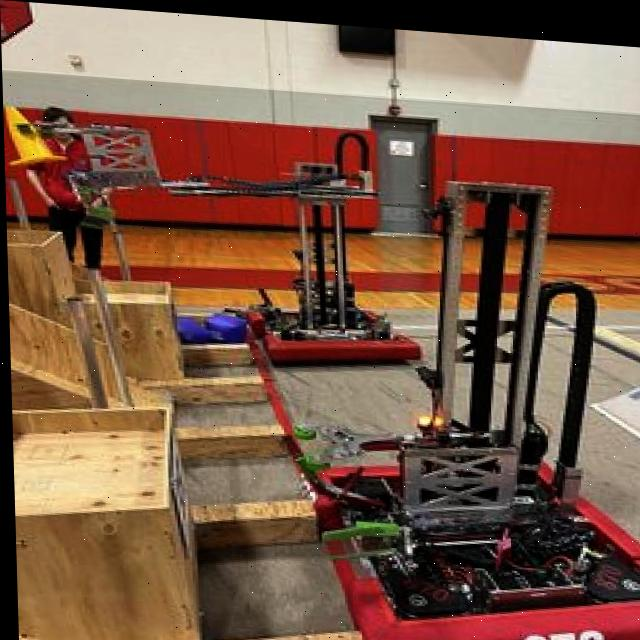robot: (295, 139, 640, 640), (78, 97, 417, 386)
